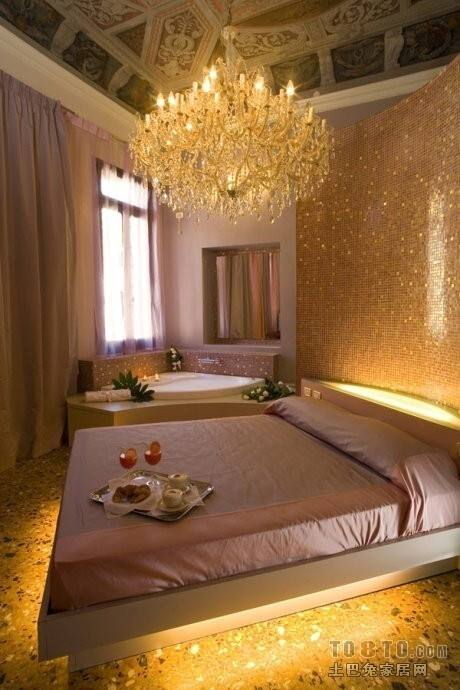床: (68, 383, 448, 639)
灯: (131, 54, 318, 229)
